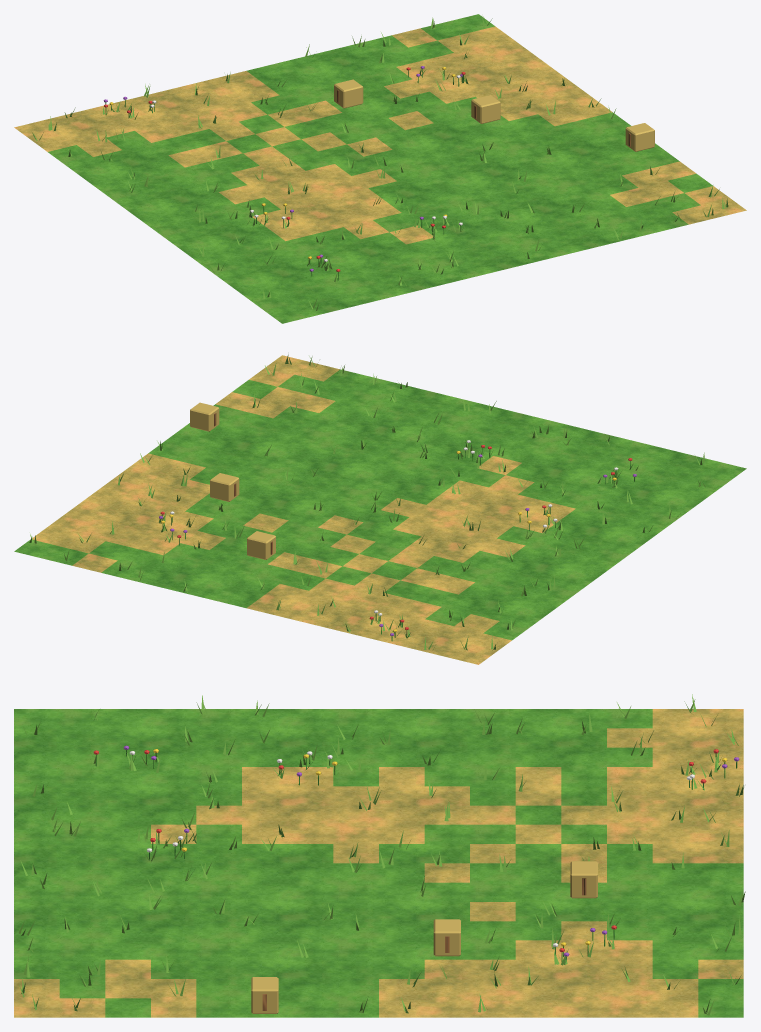
The model's file is chunk_0_11.glb.
The picture shows the model from 3 angles, top to bottom: view 1: azimuth 30°, elevation 25°; view 2: azimuth 150°, elevation 25°; view 3: azimuth 270°, elevation 25°; orthographic projection. The views are drawn at different scales.
Parts seen in each view (by area): view 1: chunk_0_11; view 2: chunk_0_11; view 3: chunk_0_11.
Part boxes in pixels (x1,y1,x2,y2): chunk_0_11: (14,14,746,323); chunk_0_11: (14,354,746,664); chunk_0_11: (14,694,745,1017).
Bounding box in the file's own units: 16.15 × 0.6 × 16.07.
Materials: 10 (4 with a texture image).
